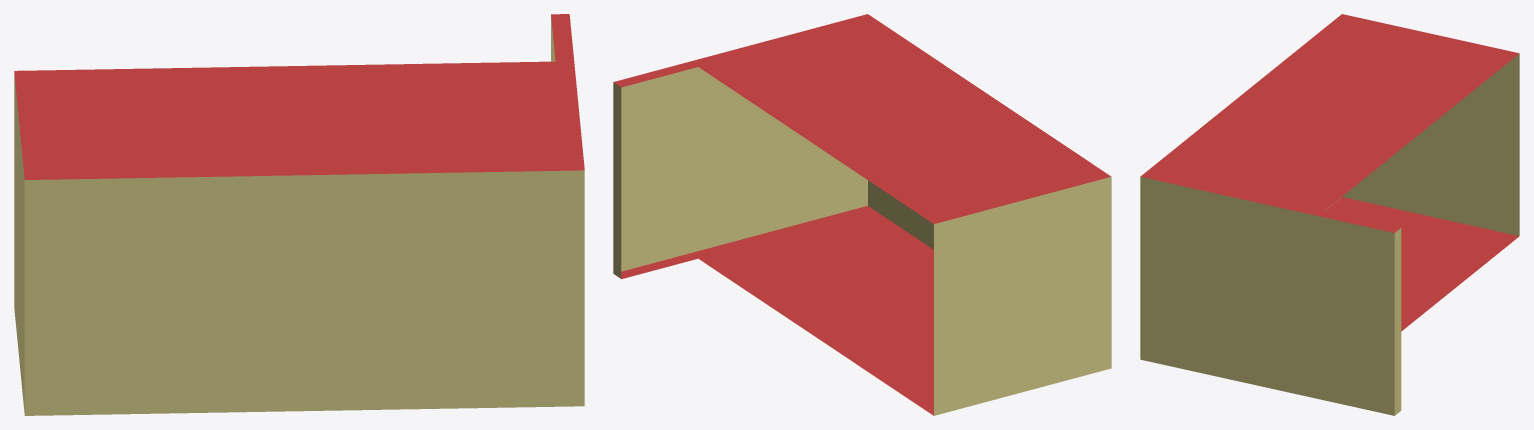
3 views of the same model, side by side, from view 1: azimuth 30°, elevation 25°; view 2: azimuth 150°, elevation 25°; view 3: azimuth 270°, elevation 25° (orthographic). The views are drawn at different scales.
Size of the model in its own units: 13.38 by 9.79 by 5.21.
